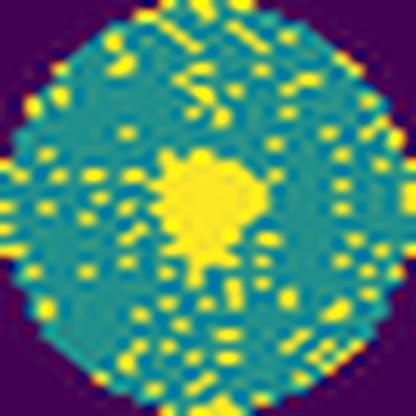Center: (150, 146, 268, 270)
